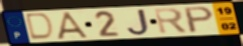2: (94, 10, 122, 38)
A: (55, 11, 93, 40)
D: (25, 12, 56, 41)
J: (126, 9, 152, 37)
P: (183, 6, 216, 35)
R: (152, 7, 190, 36)
